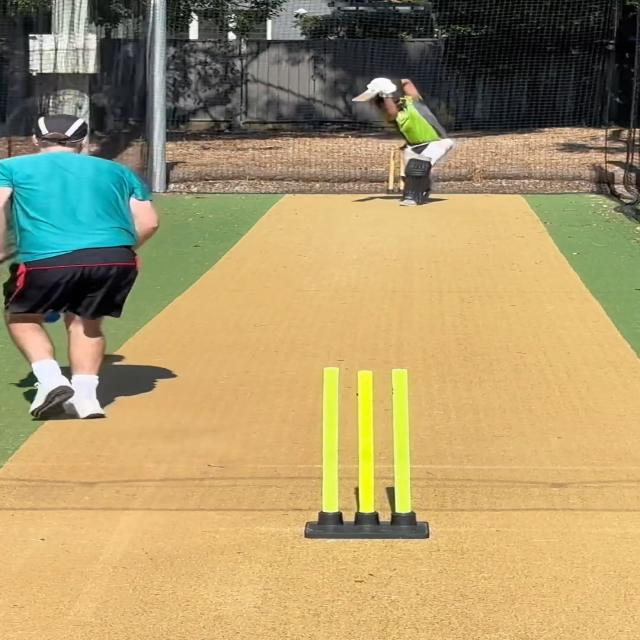stump: (308, 366, 433, 539), (387, 148, 409, 197)
